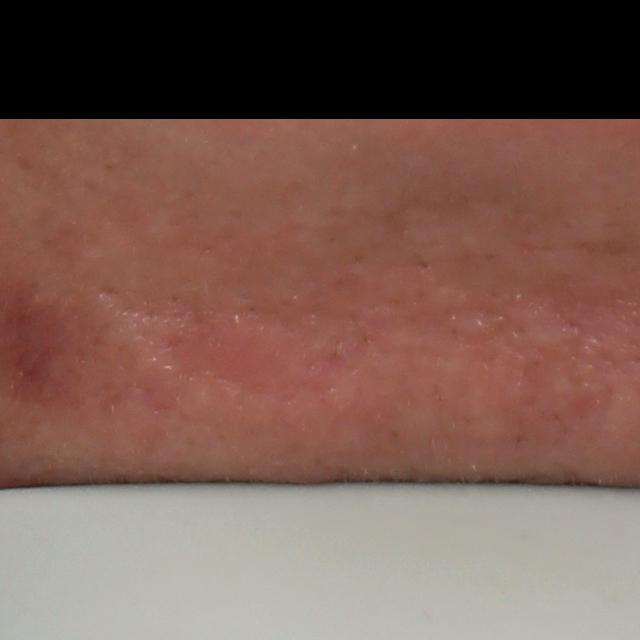atrophic_scar: (94, 282, 190, 331)
hypertrophic_scar: (89, 297, 175, 384), (512, 308, 583, 360), (446, 312, 510, 342)
